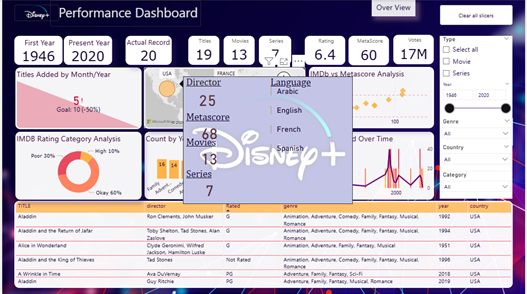

The page's visual inventory and layout, read from the dashboard file:
{"tool":"powerbi","page":{"name":"Disney+ Home","canvas":[1280,720],"ordinal":0},"visuals":[{"type":"card","fields":{"Values":["Count(disney_plus_shows.TITLE)"]},"box":[455.2,87.3,75.6,70.6],"z":0},{"type":"card","fields":{"Values":["disney_plus_shows.Total Movie"]},"box":[542.6,87.3,75.6,70.6],"z":1000},{"type":"card","fields":{"Values":["disney_plus_shows.Total Series"]},"box":[628.2,87.3,79,70.6],"z":2000},{"type":"card","fields":{"Values":["Avg(disney_plus_shows.IMDB_rating)"]},"box":[740.8,87.3,99.1,70.6],"z":3000},{"type":"card","fields":{"Values":["Avg(disney_plus_shows.Metascore)"]},"box":[848.3,87.3,99.1,72.2],"z":4000},{"type":"card","title":"First Year","fields":{"Values":["Min(disney_plus_shows.Year)"]},"box":[30.2,87.3,117.6,70.6],"z":5000},{"type":"card","title":"Present Year","fields":{"Values":["disney_plus_shows.Present Year"]},"box":[151.2,87.3,117.6,70.6],"z":6000},{"type":"card","fields":{"Values":["Sum(disney_plus_shows.IMDB_votes)"]},"box":[957.5,85.7,99.1,72.2],"z":7000},{"type":"kpi","title":"Titles Added by Month/Year","fields":{"Goal":["disney_plus_shows.Target Title"],"TrendLine":["disney_plus_shows.Added_at.Variation.Date Hierarchy.Year"],"Indicator":["Count(disney_plus_shows.IMDB ID)"]},"box":[31.9,164.6,309.1,151.2],"z":8000},{"type":"columnChart","title":"Count by Year Category","fields":{"Y":["Count(disney_plus_shows.IMDB ID)"],"Category":["disney_plus_shows.Genre"]},"box":[348.6,322.5,394.8,164.6],"z":9000},{"type":"card","title":"Actual Record","fields":{"Values":["Count(disney_plus_shows.IMDB ID)"]},"box":[302.4,87.3,112.5,70.6],"z":10000},{"type":"textbox","box":[117.3,0,369.5,64.5],"z":11000},{"type":"map","fields":{"Category":["disney_plus_shows.Country"],"Size":["Count(disney_plus_shows.IMDB ID)"]},"box":[347.7,164.6,394.8,149.5],"z":12000},{"type":"lineStackedColumnComboChart","title":"Release Trend Over Time","fields":{"Y":["Count(disney_plus_shows.IMDB ID)"],"Y2":["CountNonNull(disney_plus_shows.Year Category)"],"Series":["disney_plus_shows.Rating Category"],"Category":["disney_plus_shows.Year"]},"box":[751.4,322.9,305.7,165.7],"z":13000},{"type":"slicer","fields":{"Values":["disney_plus_shows.Year"]},"box":[1070.8,199.6,177.5,89.5],"z":14000},{"type":"slicer","fields":{"Values":["disney_plus_shows.Type"]},"box":[1070.8,87.3,178.1,112.5],"z":15000},{"type":"slicer","fields":{"Values":["disney_plus_shows.Genre"]},"box":[1070.8,289,178.9,67.4],"z":16000},{"type":"slicer","fields":{"Values":["disney_plus_shows.Country"]},"box":[1070.8,352.3,177.5,67.4],"z":17000},{"type":"slicer","fields":{"Values":["disney_plus_shows.Rated"]},"box":[1070.8,419.9,178.1,67.2],"z":18000},{"type":"scatterChart","title":"IMDb vs Metascore Analysis","fields":{"X":["Sum(disney_plus_shows.IMDB_rating)"],"Y":["Sum(disney_plus_shows.Metascore)"],"Category":["disney_plus_shows.IMDB ID"]},"box":[751.4,164.3,305.7,150],"z":19000},{"type":"tableEx","title":"Top Rated Titles","fields":{"Values":["disney_plus_shows.TITLE","rowdata_disney_plus_shows.director","disney_plus_shows.Rated","rowdata_disney_plus_shows.genre","rowdata_disney_plus_shows.year","rowdata_disney_plus_shows.country"]},"box":[30.2,492.2,1219.5,213.3],"z":20000},{"type":"donutChart","title":"IMDB Rating Category Analysis","fields":{"Category":["disney_plus_shows.Rating Category"],"Y":["Count(disney_plus_shows.IMDB ID)"]},"box":[31.9,322.5,309.1,166.3],"z":21000},{"type":"image","box":[30.2,11.8,109.2,40.3],"z":22000},{"type":"actionButton","title":"Over View","box":[904.3,0,107.1,40],"z":23000},{"type":"actionButton","box":[1071.4,11.4,178.6,50],"z":24000}]}

Visuals, with their boxes in screenshot pixels (x1, y1, x2, y2), scaled from the page's 1280x720 canvas onto the 527x294 screenshot:
card - Count(disney_plus_shows.TITLE): <box>187,36,219,64</box>
card - disney_plus_shows.Total Movie: <box>223,36,255,64</box>
card - disney_plus_shows.Total Series: <box>259,36,291,64</box>
card - Avg(disney_plus_shows.IMDB_rating): <box>305,36,346,64</box>
card - Avg(disney_plus_shows.Metascore): <box>349,36,390,65</box>
"First Year" card: <box>12,36,61,64</box>
"Present Year" card: <box>62,36,111,64</box>
card - Sum(disney_plus_shows.IMDB_votes): <box>394,35,435,64</box>
"Titles Added by Month/Year" kpi: <box>13,67,140,129</box>
"Count by Year Category" columnChart: <box>144,132,306,199</box>
"Actual Record" card: <box>125,36,171,64</box>
textbox: <box>48,0,200,26</box>
map - disney_plus_shows.Country x Count(disney_plus_shows.IMDB ID): <box>143,67,306,128</box>
"Release Trend Over Time" lineStackedColumnComboChart: <box>309,132,435,200</box>
slicer - disney_plus_shows.Year: <box>441,82,514,118</box>
slicer - disney_plus_shows.Type: <box>441,36,514,82</box>
slicer - disney_plus_shows.Genre: <box>441,118,515,146</box>
slicer - disney_plus_shows.Country: <box>441,144,514,171</box>
slicer - disney_plus_shows.Rated: <box>441,171,514,199</box>
"IMDb vs Metascore Analysis" scatterChart: <box>309,67,435,128</box>
"Top Rated Titles" tableEx: <box>12,201,515,288</box>
"IMDB Rating Category Analysis" donutChart: <box>13,132,140,200</box>
image: <box>12,5,57,21</box>
"Over View" actionButton: <box>372,0,416,16</box>
actionButton: <box>441,5,515,25</box>
